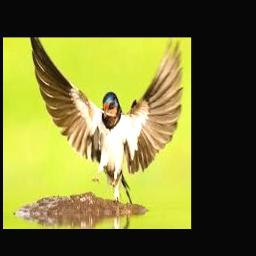Swallow: (29, 37, 182, 203)
